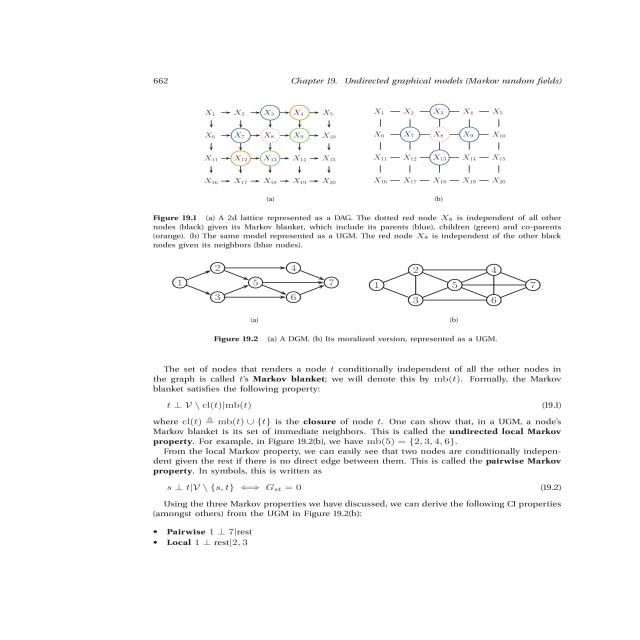diagram: (153, 112, 579, 347)
